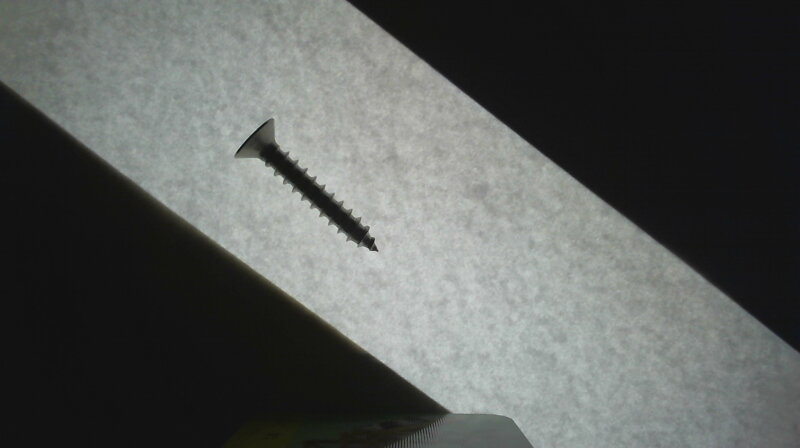S001: (231, 116, 381, 254)
